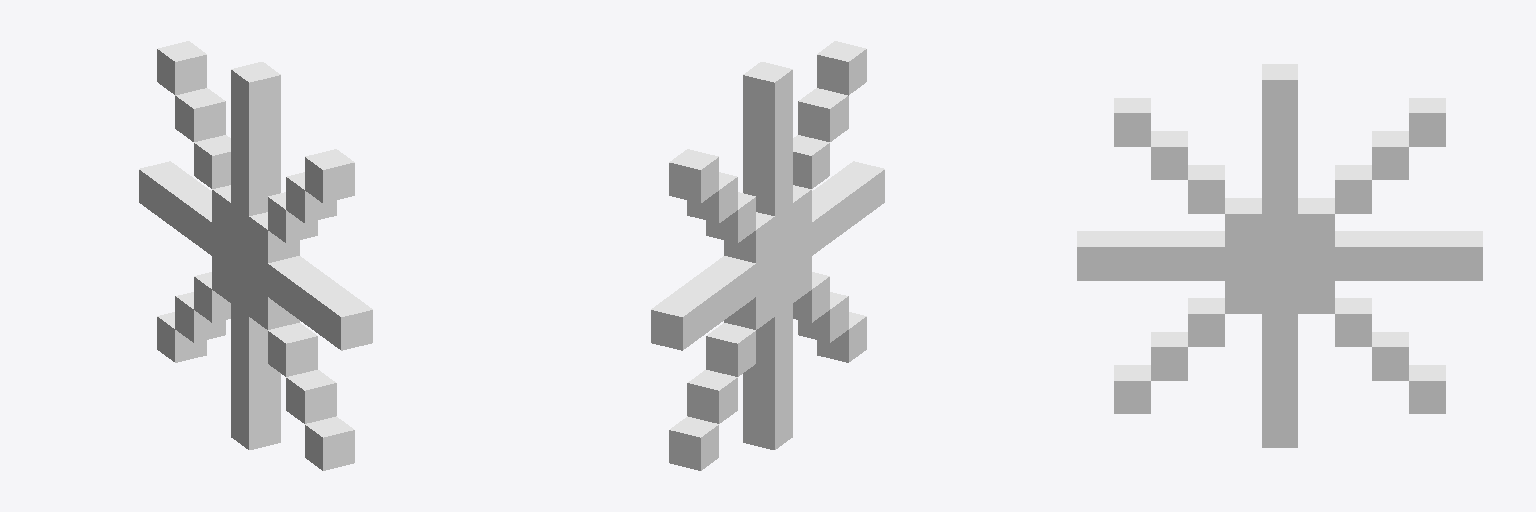
Rendered from HugeVentilatorFan.obj.
The picture shows the model from 3 angles: view 1: azimuth 30°, elevation 25°; view 2: azimuth 150°, elevation 25°; view 3: azimuth 270°, elevation 25°; orthographic projection.
Visible parts, largest first — view 1: object 1; view 2: object 1; view 3: object 1.
Boxes of the visible parts, x1,y1,x2,y2 form: object 1: [139, 41, 372, 470]; object 1: [651, 41, 884, 470]; object 1: [1077, 64, 1482, 447].
Size of the model in its own units: 0.1 by 1.1 by 1.1.